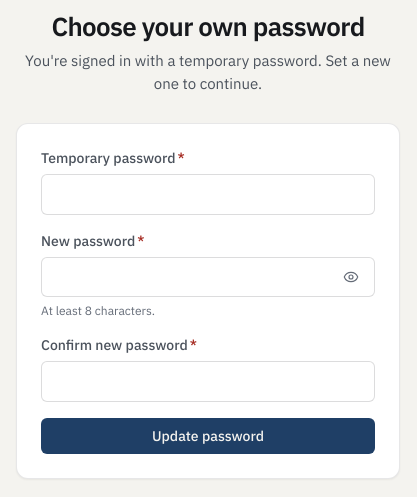
ChangePasswordPage › submits the current and new password
The image size is (417, 497).
In the password field labelled "Temporary password*": (208, 195) left=41, top=174, right=375, bottom=215, type "temp-pass-1"
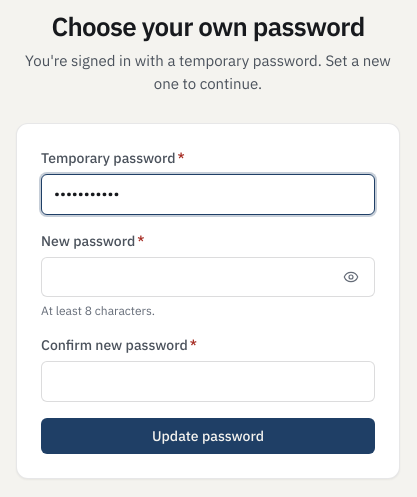
In the password field labelled "New password*": (208, 277) left=41, top=257, right=375, bottom=297, type "long-enough-1"
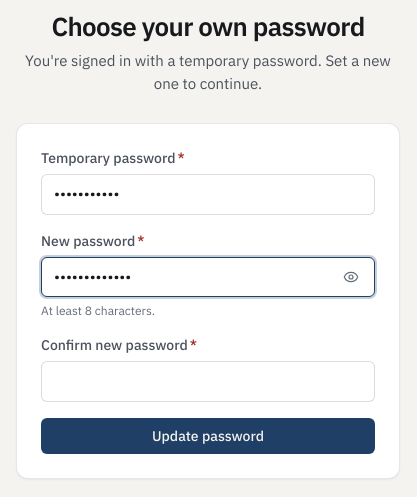
In the password field labelled "Confirm new password*": (208, 382) left=41, top=361, right=375, bottom=402, type "long-enough-1"
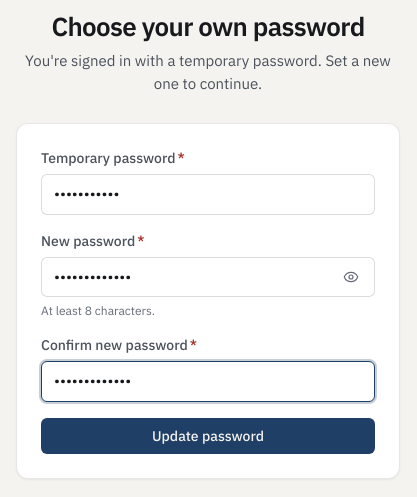
Click the button "Update password": (208, 436) left=41, top=418, right=375, bottom=454
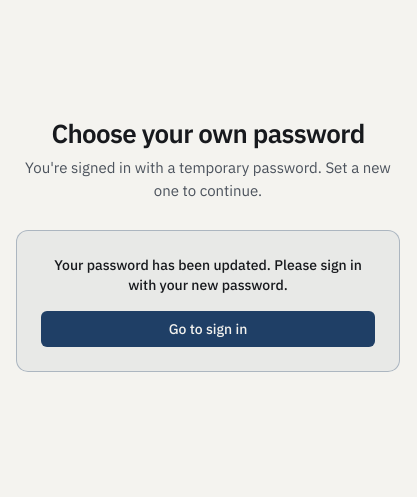
Check: the message shows "password has been updated", box left=54, top=256, right=362, bottom=294
